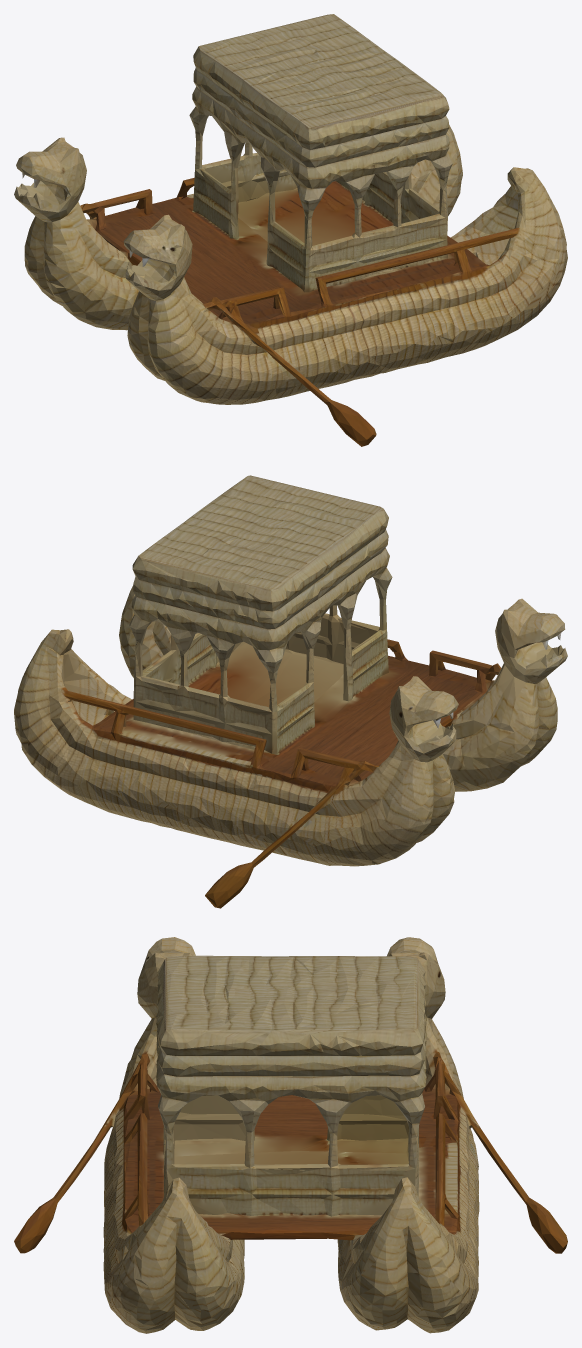
The model's file is barcoDoble.glb.
3 renders of one model, top to bottom at view 1: azimuth 30°, elevation 25°; view 2: azimuth 150°, elevation 25°; view 3: azimuth 270°, elevation 25°, orthographic. The views are drawn at different scales.
Visible parts, largest first — view 1: material; view 2: material; view 3: material.
Boxes of the visible parts, x1,y1,x2,y2 form: material: (14, 14, 567, 446); material: (14, 475, 567, 908); material: (14, 937, 567, 1333).
Bounding box in the file's own units: 2.79 × 1.69 × 2.79.
1 material, 1 textured.
